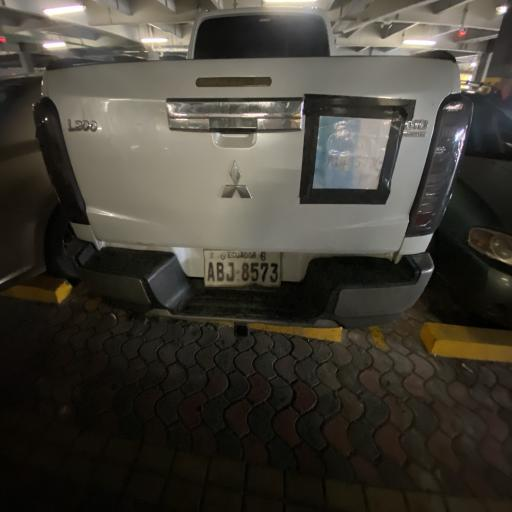license_plate: (204, 260, 215, 285), (216, 260, 226, 285), (225, 261, 236, 283), (240, 261, 250, 283), (250, 262, 260, 283), (269, 262, 279, 283), (260, 260, 269, 282)
